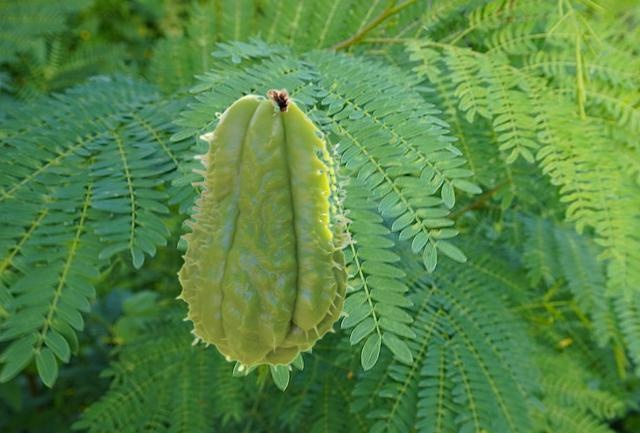sayote: (174, 87, 356, 375)
